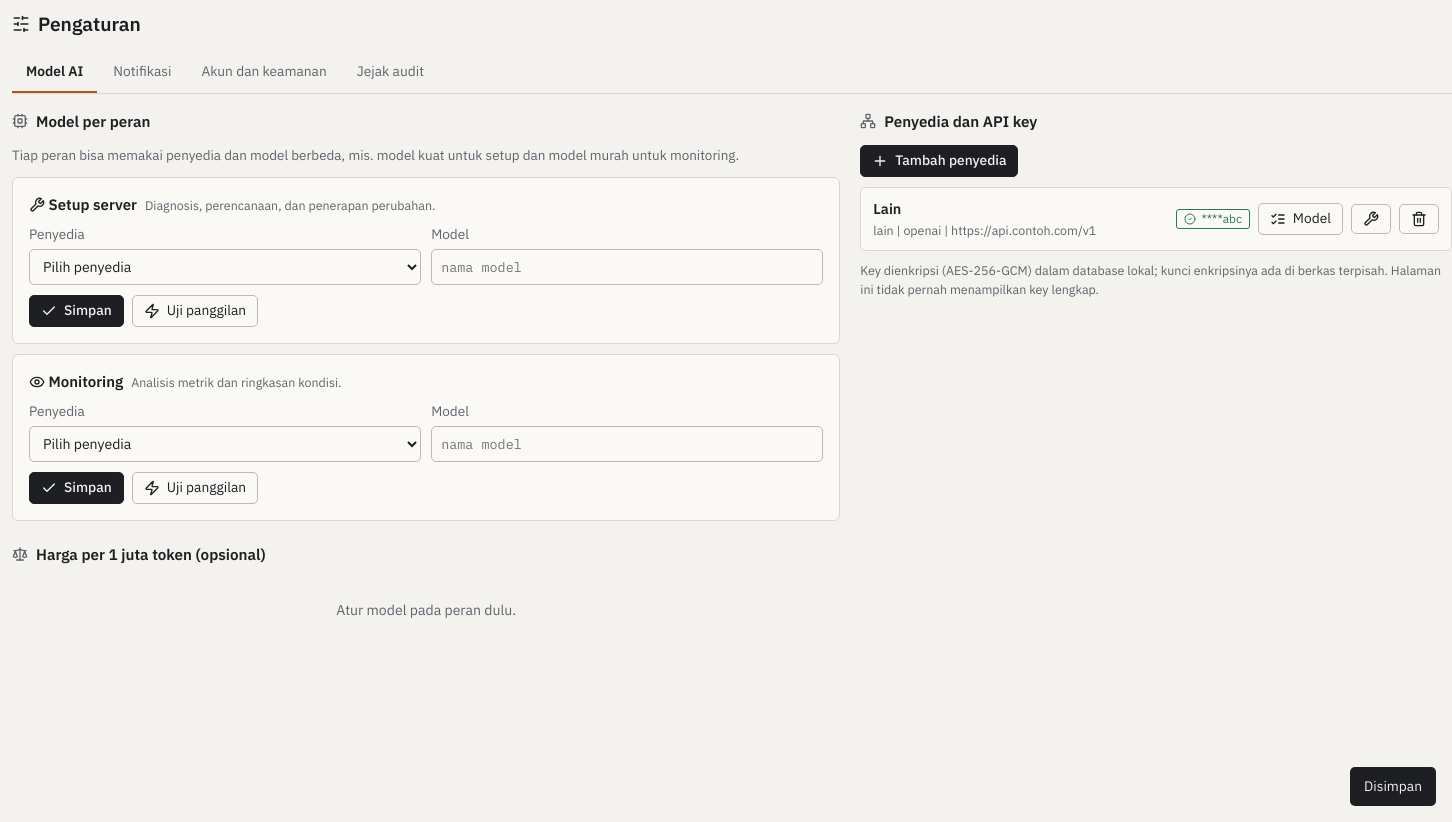
Test: SettingsPage: tab › bawaannya tab Model AI; tab lain tidak ikut tampil sampai dipilih
Expected: the heading "Model per peran" is shown, [12, 111, 150, 131]
Expected: the heading "Notifikasi ke Anda" is not shown
What coordinates should you click on to do the following:
click the tab "Notifikasi"
I would click on:
 (142, 73)
Its box is [99, 53, 185, 93].
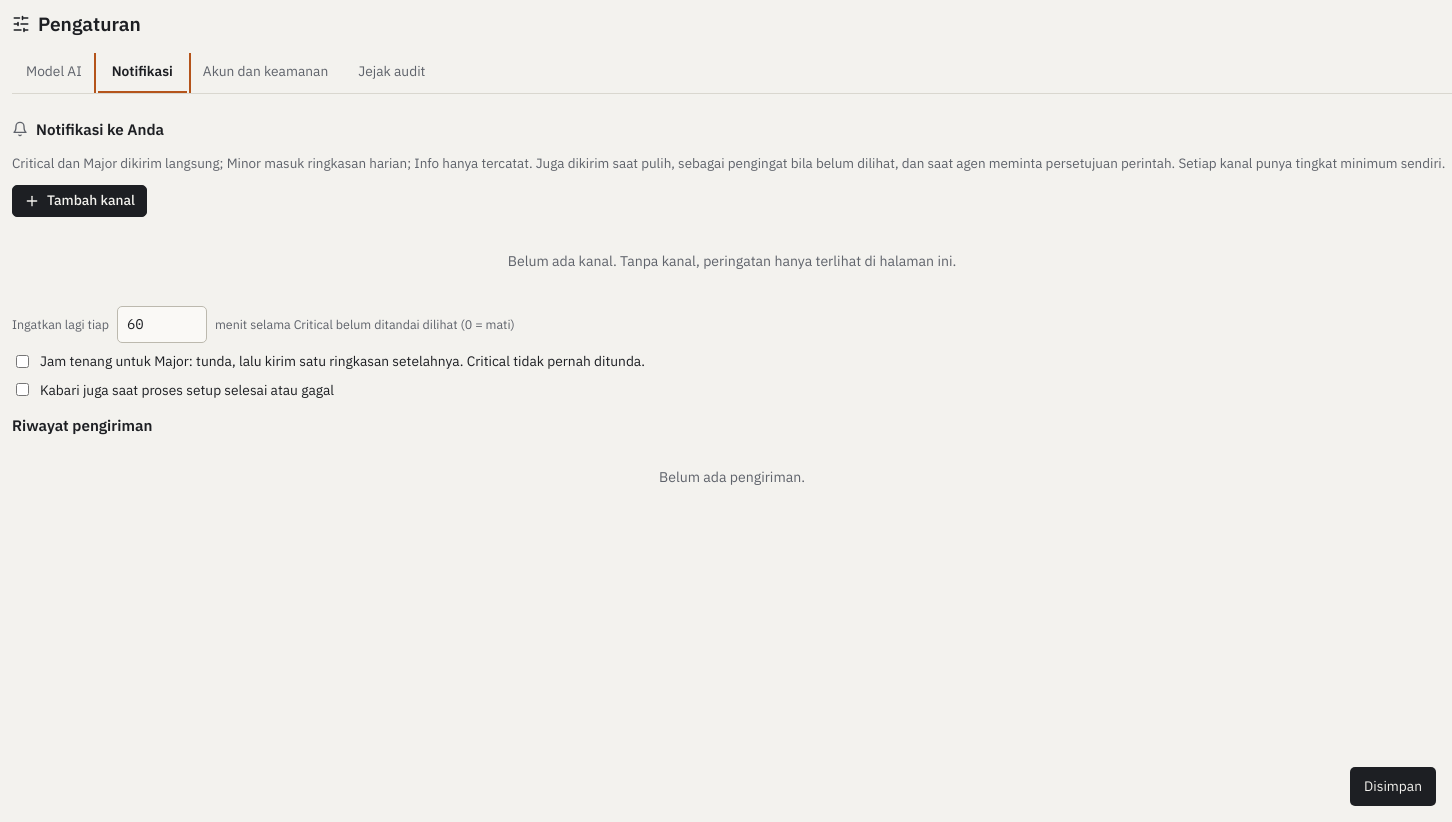
Now the heading "Notifikasi ke Anda" is shown, box [12, 119, 164, 139]
Now the heading "Model per peran" is gone
